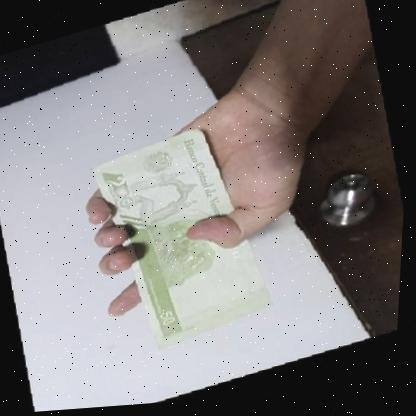fifty-back-vef: (80, 116, 288, 363)
